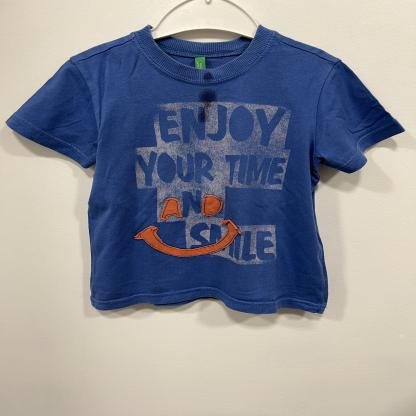stain: (193, 85, 221, 125), (201, 70, 217, 83)
